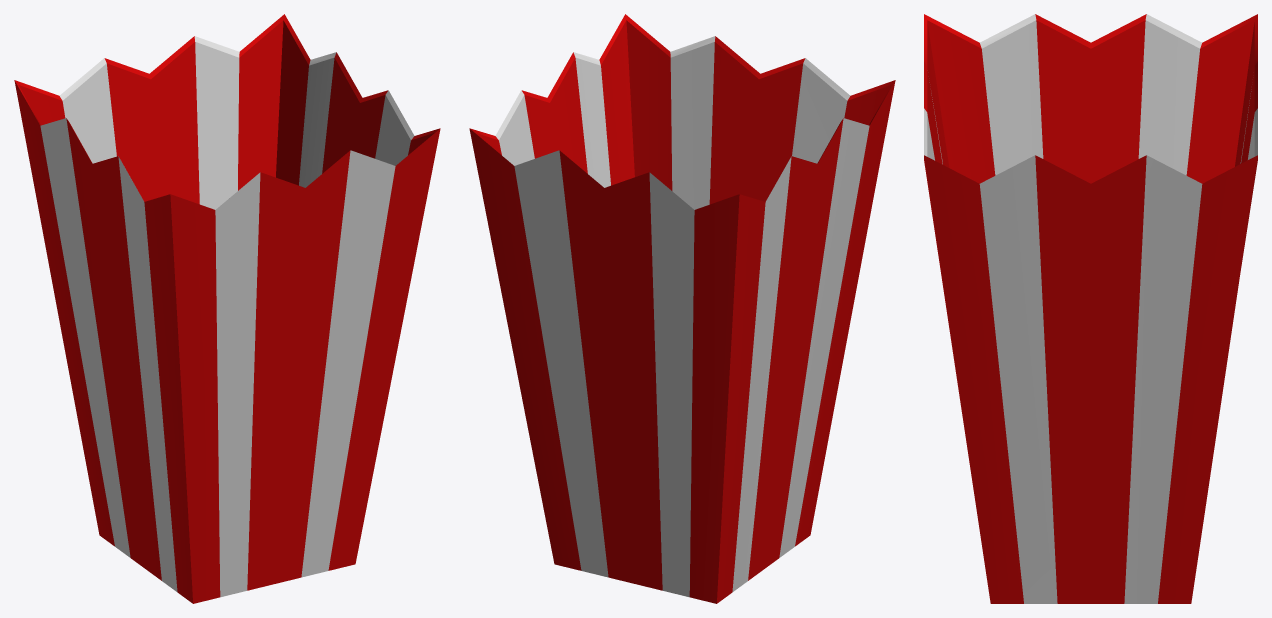
Rendered from WW_PopCornBox_Prop_01.fbx.
3 renders of one model, left to right at view 1: azimuth 30°, elevation 25°; view 2: azimuth 150°, elevation 25°; view 3: azimuth 270°, elevation 25°, orthographic. The views are drawn at different scales.
Parts seen in each view (by area): view 1: WW_PopCornBox_Prop_01; view 2: WW_PopCornBox_Prop_01; view 3: WW_PopCornBox_Prop_01.
Boxes of the visible parts, x1=… form: WW_PopCornBox_Prop_01: x1=14, y1=14, x2=440, y2=603; WW_PopCornBox_Prop_01: x1=469, y1=14, x2=895, y2=603; WW_PopCornBox_Prop_01: x1=924, y1=14, x2=1257, y2=603.
Size of the model in its own units: 19 by 29.95 by 19.
